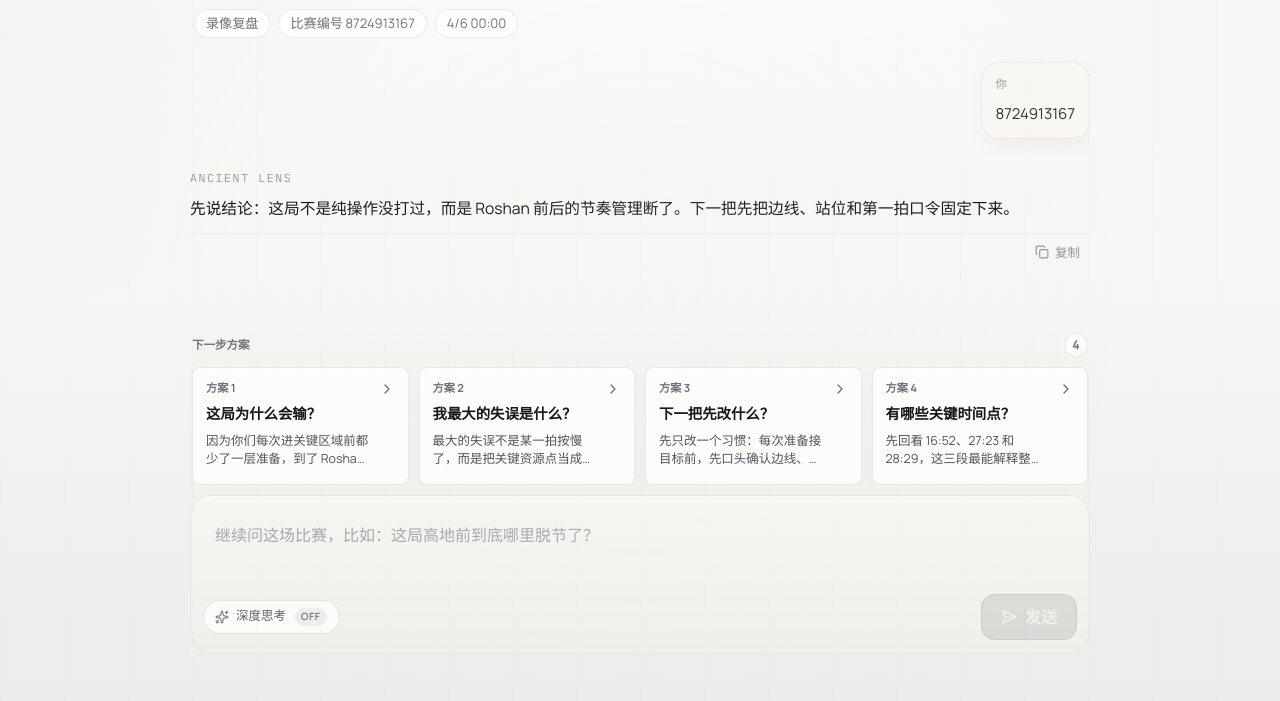
it: ResultView › does not reuse message keys when the same suggested question is sent twice
This screenshot has width=1280, height=701.
Click the button "我最大的失误是什么？". click: click(527, 426)
box: [418,367,635,485]
(page scrolled)
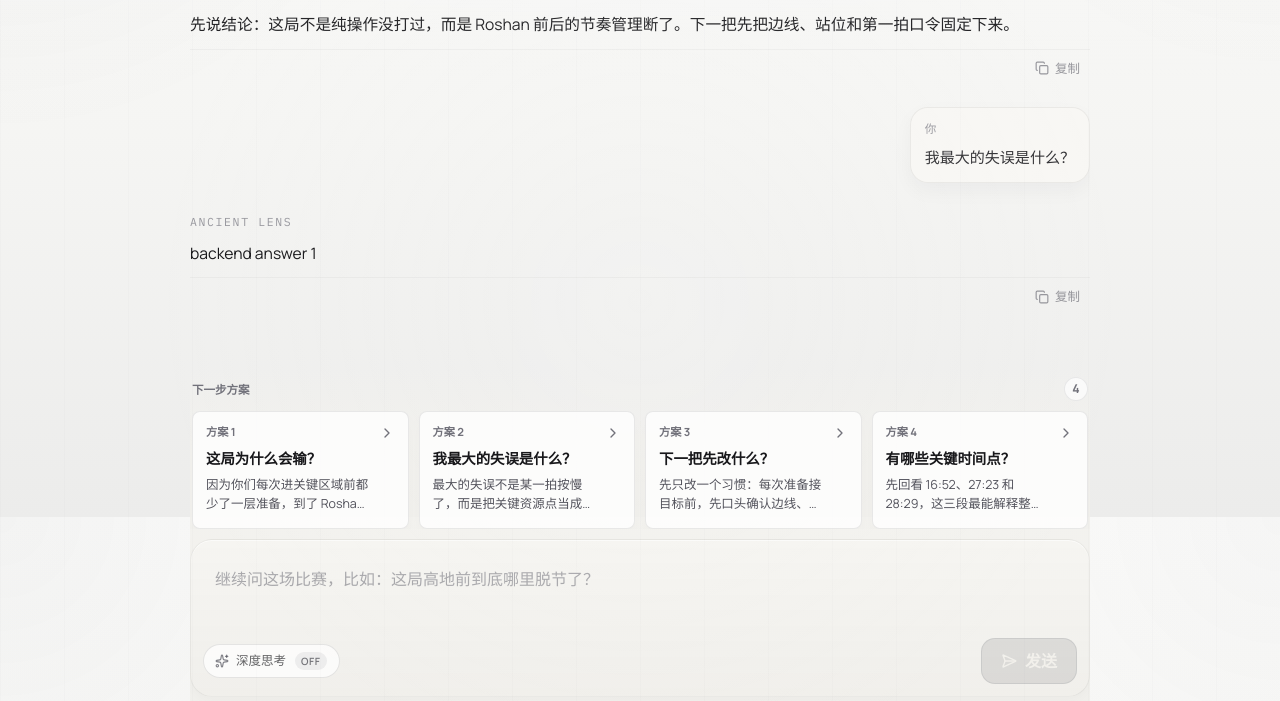
expect the text "backend answer 1" is shown: met, box [190,242,317,264]
Click the button "我最大的失误是什么？". click: click(527, 470)
box: [418,411,635,529]
(page scrolled)
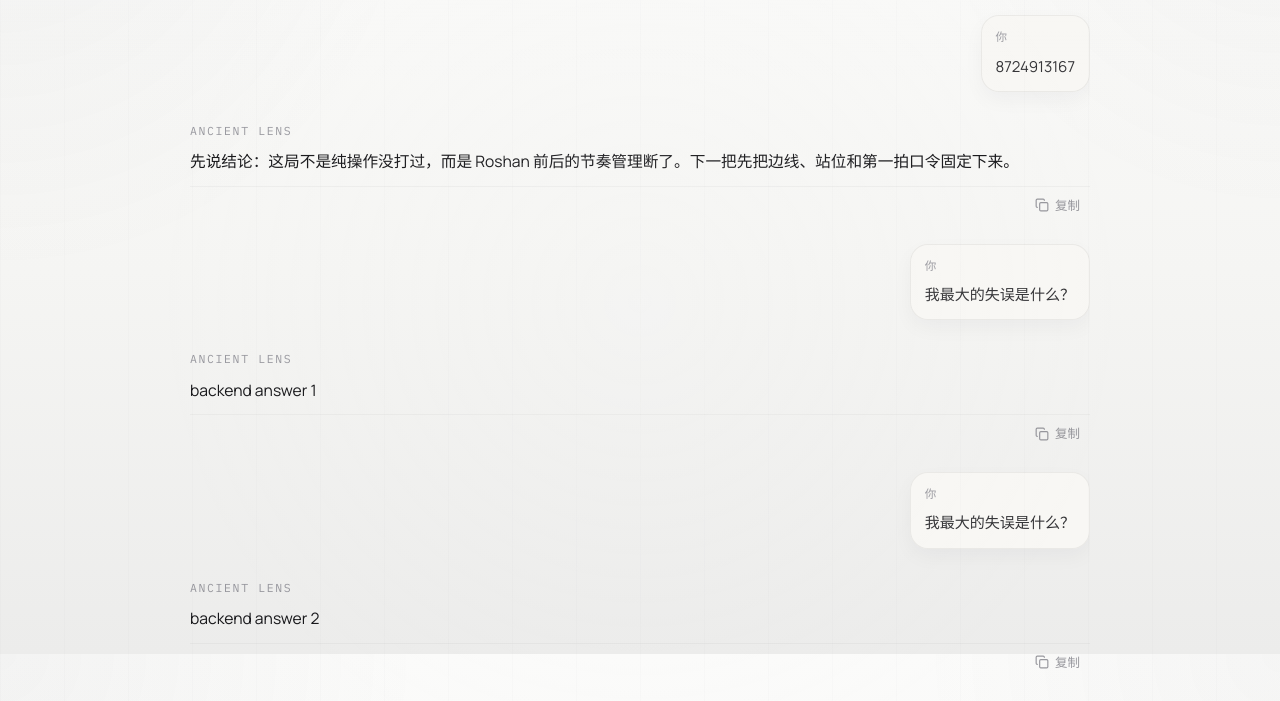
expect the text "backend answer 2" is shown: met, box [190,607,319,629]
expect the text "我最大的失误是什么？" is shown 3 times: met
